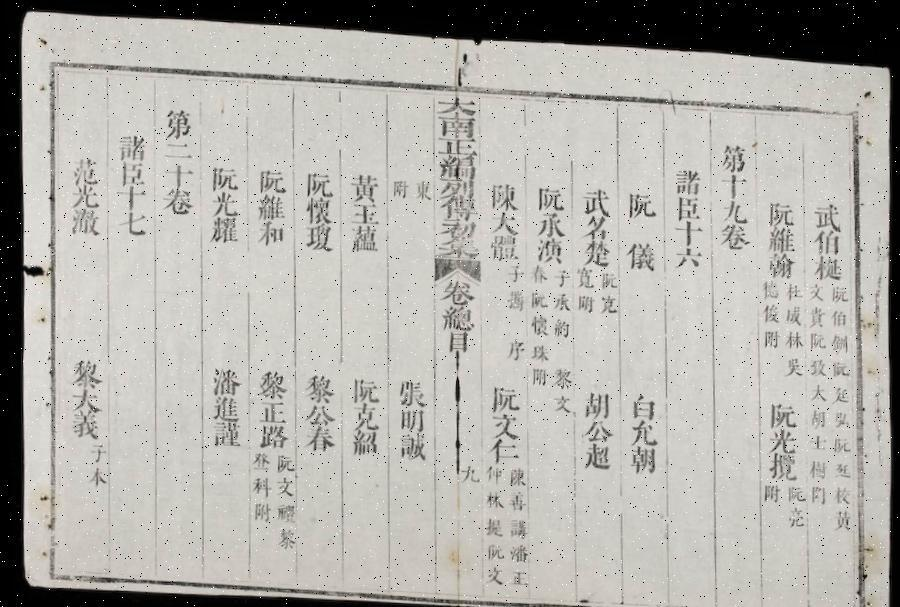c: (160, 102, 194, 138), (434, 88, 479, 114), (436, 230, 479, 257), (66, 355, 102, 387), (624, 232, 658, 265), (206, 362, 241, 394), (435, 149, 476, 176), (300, 368, 334, 400), (346, 167, 380, 199), (65, 408, 101, 438), (436, 109, 477, 135), (437, 273, 475, 301), (716, 134, 749, 166), (254, 364, 286, 397), (578, 179, 612, 210), (66, 206, 101, 236), (438, 190, 478, 216), (578, 383, 611, 414), (623, 183, 656, 214), (670, 159, 703, 190), (66, 154, 100, 184), (300, 420, 334, 450), (393, 427, 427, 457), (486, 176, 520, 206), (206, 212, 240, 242), (394, 372, 426, 403), (347, 220, 380, 250), (579, 435, 612, 465), (809, 192, 842, 222), (487, 228, 520, 258), (160, 184, 194, 213), (436, 173, 478, 196), (625, 438, 657, 468), (208, 416, 240, 446), (486, 378, 518, 408), (115, 130, 147, 160), (579, 232, 611, 262), (439, 300, 473, 328), (764, 190, 795, 220), (301, 192, 332, 222), (764, 443, 796, 472), (764, 418, 796, 447), (672, 211, 704, 240), (718, 214, 750, 243), (484, 432, 518, 459), (810, 246, 844, 273), (255, 418, 286, 447), (116, 208, 148, 236), (810, 220, 842, 248), (302, 220, 334, 248), (66, 385, 100, 411), (626, 384, 656, 413), (348, 372, 378, 401), (348, 425, 378, 454), (626, 411, 656, 440), (348, 398, 378, 427), (208, 161, 238, 190), (255, 164, 286, 192), (487, 408, 518, 436), (301, 166, 332, 194), (672, 238, 704, 265), (764, 218, 796, 245), (435, 132, 478, 152), (765, 392, 795, 420), (116, 158, 146, 186), (717, 164, 747, 192), (764, 244, 794, 272), (534, 230, 564, 258), (255, 190, 285, 218), (208, 188, 238, 216), (114, 183, 146, 209), (162, 159, 194, 185), (68, 182, 100, 208), (580, 412, 612, 438), (534, 206, 566, 232), (718, 190, 747, 218), (580, 208, 610, 235), (534, 179, 564, 206), (208, 392, 239, 418), (302, 398, 334, 423), (255, 218, 285, 244), (255, 396, 286, 421), (348, 198, 380, 222), (487, 206, 518, 230), (673, 188, 701, 214), (437, 215, 477, 233), (162, 137, 194, 159), (396, 402, 424, 427), (442, 326, 470, 349), (828, 499, 852, 523), (502, 331, 524, 356), (504, 511, 527, 534), (83, 463, 105, 487), (272, 523, 294, 546), (804, 448, 826, 471), (549, 387, 571, 410), (780, 347, 802, 370), (828, 323, 850, 346), (248, 471, 270, 494), (573, 260, 594, 284), (503, 282, 524, 306), (550, 361, 571, 385), (527, 308, 548, 332), (782, 321, 804, 343), (784, 498, 805, 521), (272, 498, 293, 521), (760, 294, 780, 318), (504, 536, 526, 557), (805, 400, 826, 422), (480, 484, 502, 505), (481, 511, 502, 533), (759, 270, 780, 292), (528, 336, 549, 358), (84, 439, 104, 462), (504, 484, 524, 507), (782, 296, 802, 319), (806, 297, 826, 320), (413, 174, 432, 198), (828, 375, 849, 396), (249, 447, 270, 468), (830, 475, 850, 497), (482, 559, 502, 581), (760, 474, 780, 496), (828, 349, 850, 369), (806, 374, 826, 396), (502, 258, 524, 278), (390, 174, 410, 196), (272, 471, 292, 493), (596, 287, 616, 309), (249, 496, 269, 518), (527, 360, 547, 382), (760, 320, 780, 342), (528, 258, 548, 280), (830, 450, 850, 471), (830, 425, 850, 446), (782, 273, 802, 294), (784, 476, 805, 496), (828, 275, 848, 296), (828, 299, 848, 320), (550, 261, 570, 282), (272, 449, 292, 470), (550, 312, 570, 333), (550, 286, 570, 307), (482, 458, 501, 480), (807, 348, 826, 370), (482, 536, 502, 556), (806, 324, 826, 344), (528, 284, 548, 304), (805, 424, 826, 443), (459, 458, 478, 479), (807, 475, 826, 496), (575, 287, 594, 308), (506, 460, 524, 482), (829, 400, 848, 420), (505, 563, 526, 581), (806, 274, 824, 294), (598, 264, 616, 284)
